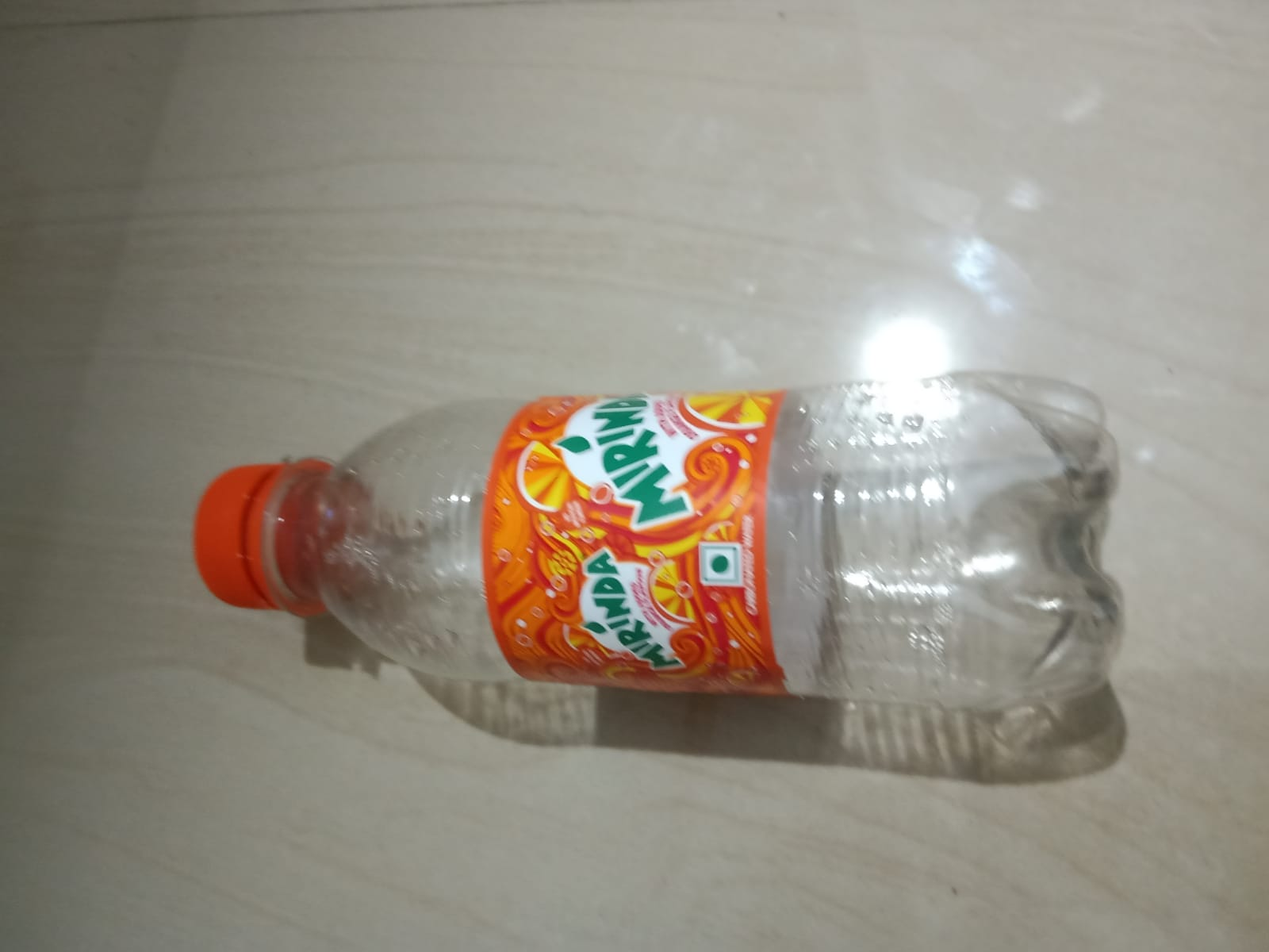plastic: (147, 361, 1267, 914)
